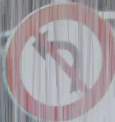Don't turn left: (16, 12, 99, 106)
